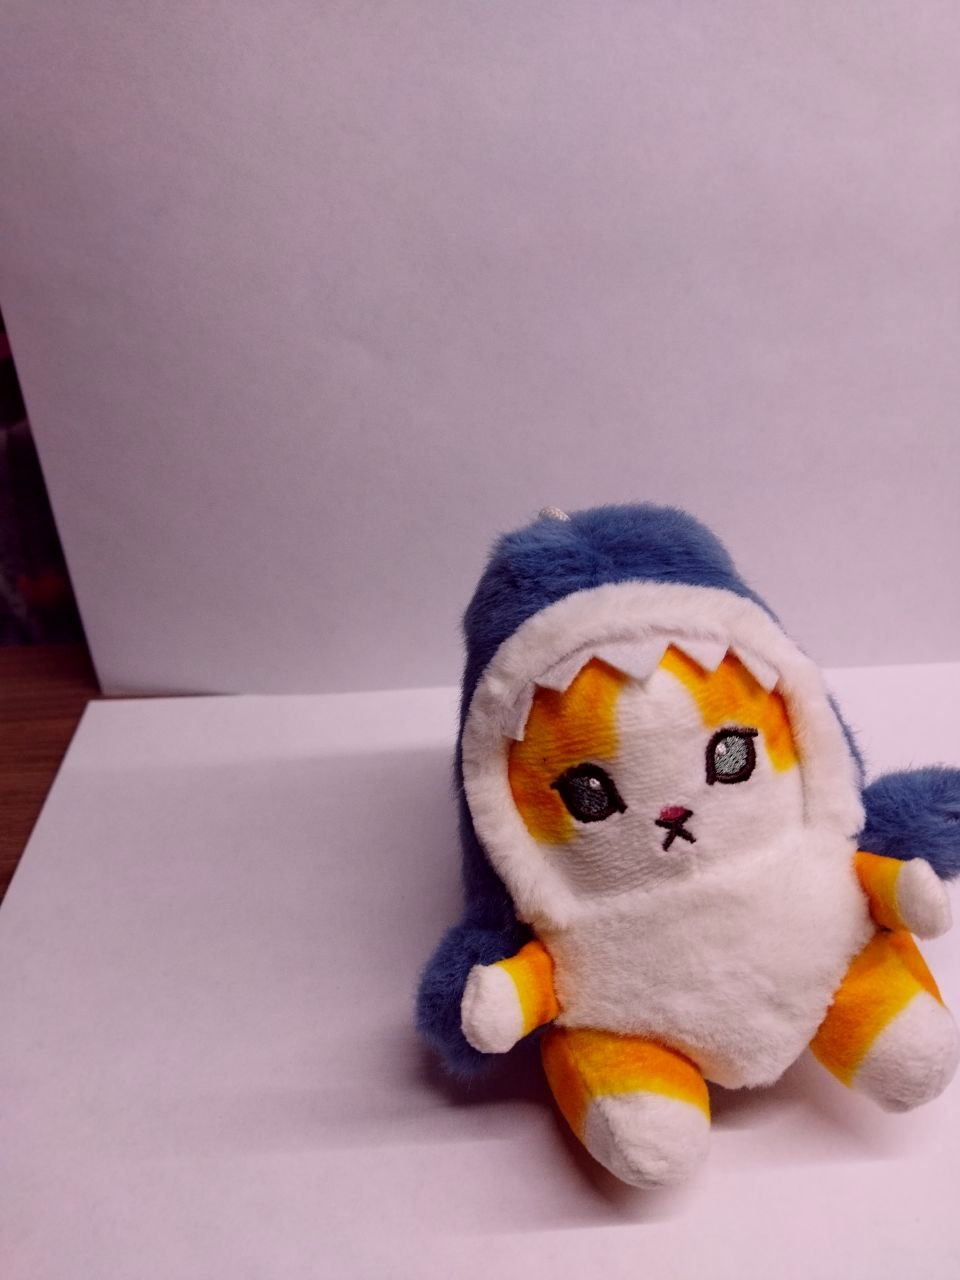Snark Cat: (411, 504, 960, 1188)
